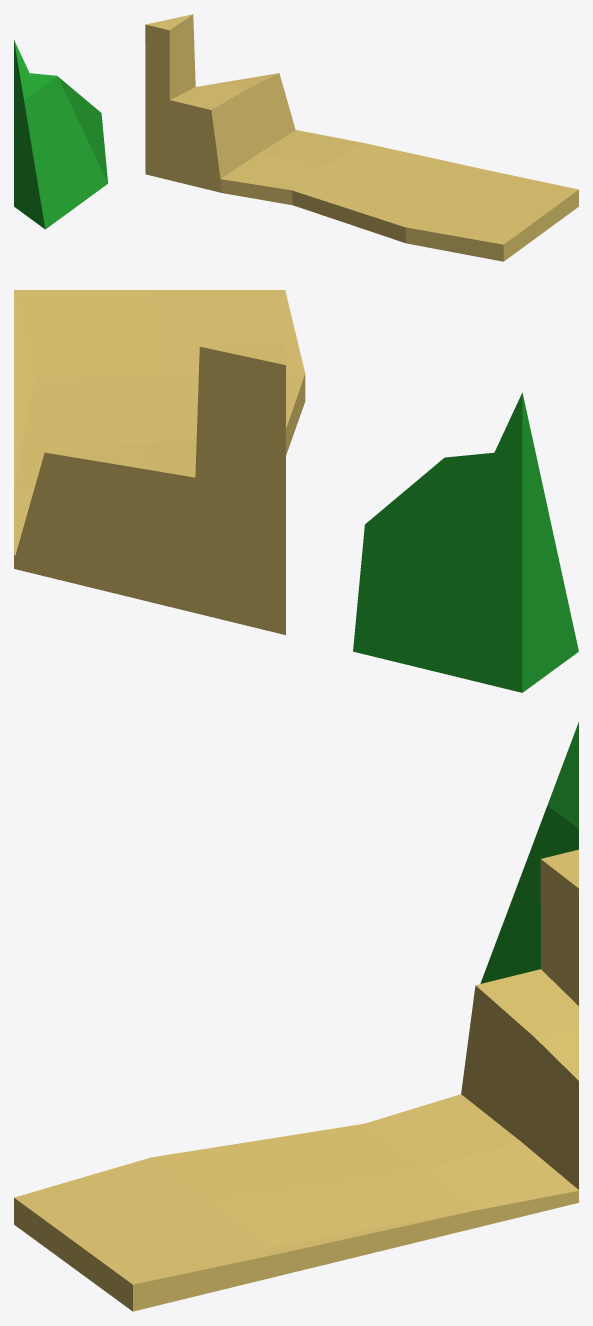
File: module-corner_land_cliff_small_stairs_003.glb
3 views of the same model, one above another, from view 1: azimuth 30°, elevation 25°; view 2: azimuth 150°, elevation 25°; view 3: azimuth 270°, elevation 25° (orthographic). The views are drawn at different scales.
Visible parts, largest first — view 1: module-corner_land_cliff_small_stairs_003; view 2: module-corner_land_cliff_small_stairs_003; view 3: module-corner_land_cliff_small_stairs_003.
Part boxes in pixels (left/top/right/bottom): module-corner_land_cliff_small_stairs_003: left=14, top=14, right=578, bottom=261; module-corner_land_cliff_small_stairs_003: left=14, top=290, right=578, bottom=692; module-corner_land_cliff_small_stairs_003: left=14, top=722, right=578, bottom=1311.
Size of the model in its own units: 0.6495 by 0.2447 by 0.475.
